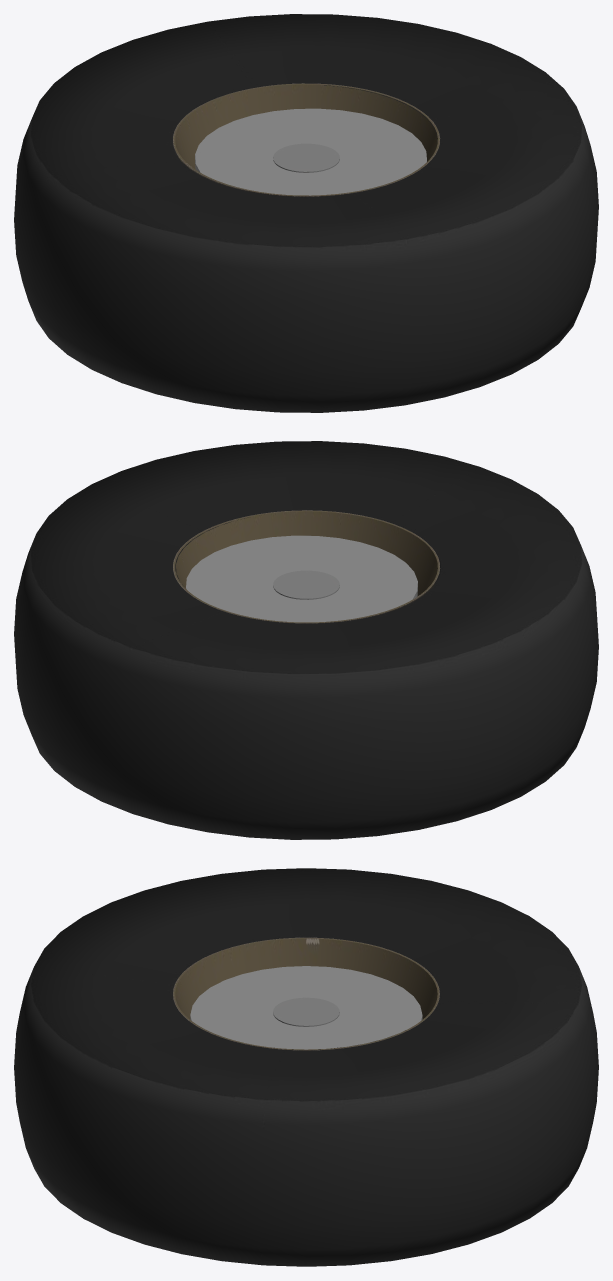
Rendered from fr_wheel.gltf.
The picture shows the model from 3 angles, top to bottom: view 1: azimuth 30°, elevation 25°; view 2: azimuth 150°, elevation 25°; view 3: azimuth 270°, elevation 25°; orthographic projection.
Visible parts, largest first — view 1: fr_wheel; view 2: fr_wheel; view 3: fr_wheel.
Boxes of the visible parts, box(x1,y1,x2,y2) form: fr_wheel: box(14, 14, 598, 412); fr_wheel: box(14, 441, 598, 839); fr_wheel: box(14, 868, 598, 1266).
Size of the model in its own units: 0.7222 by 0.2317 by 0.7222.
2 materials, 2 textured.
